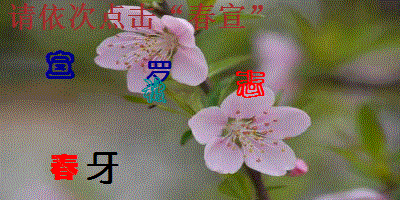result: (187, 2, 249, 30)
text: (85, 148, 120, 187), (42, 48, 76, 81), (233, 67, 267, 100), (49, 150, 79, 182), (144, 58, 172, 86), (141, 76, 168, 105)
